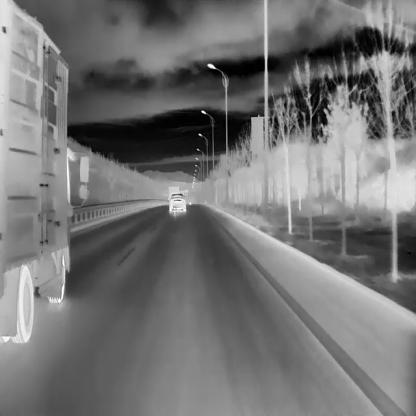car: (168, 193, 186, 211)
truck: (0, 0, 88, 343), (168, 186, 178, 205)
